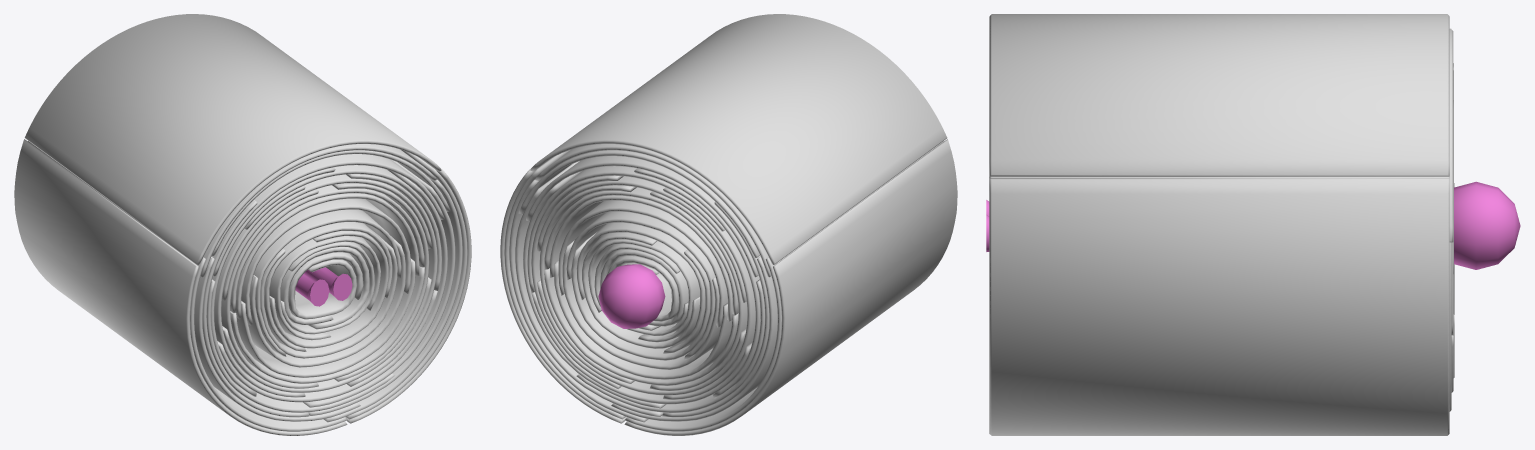
The model's file is huton_muki_tset.FBX.
3 renders of one model, left to right at view 1: azimuth 30°, elevation 25°; view 2: azimuth 150°, elevation 25°; view 3: azimuth 270°, elevation 25°, orthographic. The views are drawn at different scales.
Visible parts, largest first — view 1: huton1; view 2: huton1; view 3: huton1.
Part boxes in pixels (x1,y1,x2,y2): huton1: (14,14,471,435); huton1: (500,14,957,435); huton1: (986,14,1520,435).
Size of the model in its own units: 148 by 142 by 181.
